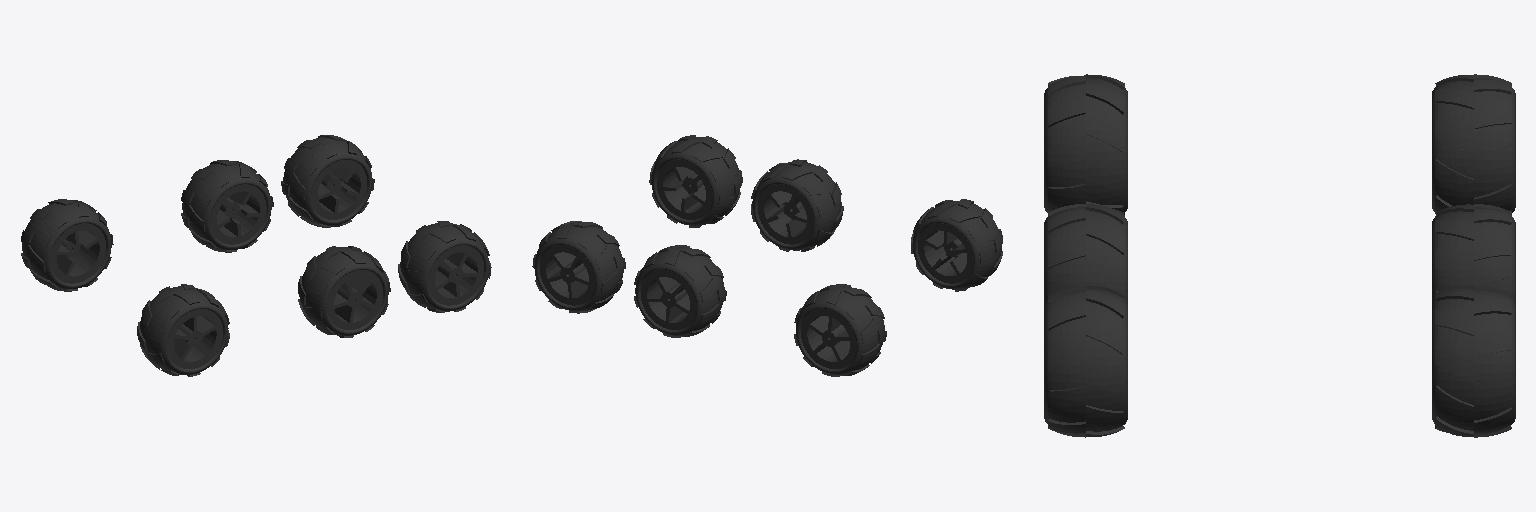
The robot description file, URDF, robot "roverfinal":
<robot
  name="roverfinal">
  <link
    name="rov">
    <inertial>
      <origin
        xyz="0.0190625882374699 -4.65248248815442E-08 0.33851665227412"
        rpy="0 0 0" />
      <mass
        value="4.39169267022831" />
      <inertia
        ixx="0.199357385800559"
        ixy="-3.61509941138825E-05"
        ixz="0.00940668484747101"
        iyy="0.208149492549454"
        iyz="-1.43928486263471E-07"
        izz="0.306772643862929" />
    </inertial>
    <visual>
      <origin
        xyz="0 0 0"
        rpy="0 0 0" />
      <geometry>
        <mesh
          filename="package://roverfinal/meshes/rov.STL" />
      </geometry>
      <material
        name="">
        <color
          rgba="0.843137254901961 0.815686274509804 0.752941176470588 1" />
      </material>
    </visual>
    <collision>
      <origin
        xyz="0 0 0"
        rpy="0 0 0" />
      <geometry>
        <mesh
          filename="package://roverfinal/meshes/rov.STL" />
      </geometry>
    </collision>
  </link>
  <link
    name="rueda1">
    <inertial>
      <origin
        xyz="7.60403832356094E-06 6.6267419967965E-06 0.000621660262235091"
        rpy="0 0 0" />
      <mass
        value="3.68717840133968" />
      <inertia
        ixx="0.0186305070816369"
        ixy="-9.47267250335423E-08"
        ixz="9.82909026594848E-06"
        iyy="0.0186303359627206"
        iyz="8.11533994536173E-06"
        izz="0.0288597043890941" />
    </inertial>
    <visual>
      <origin
        xyz="0 0 0"
        rpy="0 0 0" />
      <geometry>
        <mesh
          filename="package://roverfinal/meshes/rueda1.STL" />
      </geometry>
      <material
        name="">
        <color
          rgba="0.250980392156863 0.250980392156863 0.250980392156863 1" />
      </material>
    </visual>
    <collision>
      <origin
        xyz="0 0 0"
        rpy="0 0 0" />
      <geometry>
        <mesh
          filename="package://roverfinal/meshes/rueda1.STL" />
      </geometry>
    </collision>
  </link>
  <joint
    name="rueda_1"
    type="revolute">
    <origin
      xyz="0.39573 -0.30621 0.12581"
      rpy="1.5708 0 0" />
    <parent
      link="rov" />
    <child
      link="rueda1" />
    <axis
      xyz="0 0 1" />
    <limit
      lower="-15"
      upper="15"
      effort="1000"
      velocity="0.5" />
  </joint>
  <link
    name="rueda2">
    <inertial>
      <origin
        xyz="2.1295E-06 -9.7362E-06 -0.00062151"
        rpy="0 0 0" />
      <mass
        value="3.6872" />
      <inertia
        ixx="0.018631"
        ixy="-8.0891E-08"
        ixz="-2.7061E-06"
        iyy="0.01863"
        iyz="1.2466E-05"
        izz="0.02886" />
    </inertial>
    <visual>
      <origin
        xyz="0 0 0"
        rpy="0 0 0" />
      <geometry>
        <mesh
          filename="package://roverfinal/meshes/rueda2.STL" />
      </geometry>
      <material
        name="">
        <color
          rgba="0.25098 0.25098 0.25098 1" />
      </material>
    </visual>
    <collision>
      <origin
        xyz="0 0 0"
        rpy="0 0 0" />
      <geometry>
        <mesh
          filename="package://roverfinal/meshes/rueda2.STL" />
      </geometry>
    </collision>
  </link>
  <joint
    name="rueda_2"
    type="revolute">
    <origin
      xyz="0.39573 0.30621 0.12581"
      rpy="1.5708 0 0" />
    <parent
      link="rov" />
    <child
      link="rueda2" />
    <axis
      xyz="0 0 1" />
    <limit
      lower="-15"
      upper="15"
      effort="1000"
      velocity="0.5" />
  </joint>
  <link
    name="rueda3">
    <inertial>
      <origin
        xyz="9.2261E-06 1.3068E-06 0.00062028"
        rpy="0 0 0" />
      <mass
        value="3.6873" />
      <inertia
        ixx="0.018631"
        ixy="-1.3252E-07"
        ixz="1.1952E-05"
        iyy="0.018631"
        iyz="4.1426E-06"
        izz="0.02886" />
    </inertial>
    <visual>
      <origin
        xyz="0 0 0"
        rpy="0 0 0" />
      <geometry>
        <mesh
          filename="package://roverfinal/meshes/rueda3.STL" />
      </geometry>
      <material
        name="">
        <color
          rgba="0.25098 0.25098 0.25098 1" />
      </material>
    </visual>
    <collision>
      <origin
        xyz="0 0 0"
        rpy="0 0 0" />
      <geometry>
        <mesh
          filename="package://roverfinal/meshes/rueda3.STL" />
      </geometry>
    </collision>
  </link>
  <joint
    name="rueda_3"
    type="revolute">
    <origin
      xyz="0.090614 -0.30621 0.12581"
      rpy="1.5708 0 0" />
    <parent
      link="rov" />
    <child
      link="rueda3" />
   <axis
      xyz="0 0 1" />
    <limit
      lower="-15"
      upper="15"
      effort="1000"
      velocity="0.5" />
  </joint>
  <link
    name="rueda4">
    <inertial>
      <origin
        xyz="3.8713E-06 -9.0806E-06 -0.00062179"
        rpy="0 0 0" />
      <mass
        value="3.6872" />
      <inertia
        ixx="0.018631"
        ixy="1.4389E-08"
        ixz="-5.2116E-06"
        iyy="0.01863"
        iyz="1.1701E-05"
        izz="0.02886" />
    </inertial>
    <visual>
      <origin
        xyz="0 0 0"
        rpy="0 0 0" />
      <geometry>
        <mesh
          filename="package://roverfinal/meshes/rueda4.STL" />
      </geometry>
      <material
        name="">
        <color
          rgba="0.25098 0.25098 0.25098 1" />
      </material>
    </visual>
    <collision>
      <origin
        xyz="0 0 0"
        rpy="0 0 0" />
      <geometry>
        <mesh
          filename="package://roverfinal/meshes/rueda4.STL" />
      </geometry>
    </collision>
  </link>
  <joint
    name="rueda_4"
    type="revolute">
    <origin
      xyz="0.090612 0.30621 0.12581"
      rpy="1.5708 0 0" />
    <parent
      link="rov" />
    <child
      link="rueda4" />
    <axis
      xyz="0 0 1" />
    <limit
      lower="-15"
      upper="15"
      effort="1000"
      velocity="0.5" />
  </joint>
  <link
    name="rueda5">
    <inertial>
      <origin
        xyz="2.2834E-06 -9.3615E-06 0.00061913"
        rpy="0 0 0" />
      <mass
        value="3.6872" />
      <inertia
        ixx="0.018631"
        ixy="1.4376E-07"
        ixz="2.2094E-06"
        iyy="0.018631"
        iyz="-1.2381E-05"
        izz="0.02886" />
    </inertial>
    <visual>
      <origin
        xyz="0 0 0"
        rpy="0 0 0" />
      <geometry>
        <mesh
          filename="package://roverfinal/meshes/rueda5.STL" />
      </geometry>
      <material
        name="">
        <color
          rgba="0.25098 0.25098 0.25098 1" />
      </material>
    </visual>
    <collision>
      <origin
        xyz="0 0 0"
        rpy="0 0 0" />
      <geometry>
        <mesh
          filename="package://roverfinal/meshes/rueda5.STL" />
      </geometry>
    </collision>
  </link>
  <joint
    name="rueda_5"
    type="revolute">
    <origin
      xyz="-0.39373 -0.30621 0.12581"
      rpy="1.5708 0 0" />
    <parent
      link="rov" />
    <child
      link="rueda5" />
    <axis
      xyz="0 0 1" />
    <limit
      lower="-15"
      upper="15"
      effort="1000"
      velocity="0.5" />
  </joint>
  <link
    name="rueda6">
    <inertial>
      <origin
        xyz="-9.8771E-06 -1.2449E-06 -0.00062163"
        rpy="0 0 0" />
      <mass
        value="3.6872" />
      <inertia
        ixx="0.01863"
        ixy="1.0031E-07"
        ixz="1.2633E-05"
        iyy="0.018631"
        iyz="1.7985E-06"
        izz="0.02886" />
    </inertial>
    <visual>
      <origin
        xyz="0 0 0"
        rpy="0 0 0" />
      <geometry>
        <mesh
          filename="package://roverfinal/meshes/rueda6.STL" />
      </geometry>
      <material
        name="">
        <color
          rgba="0.25098 0.25098 0.25098 1" />
      </material>
    </visual>
    <collision>
      <origin
        xyz="0 0 0"
        rpy="0 0 0" />
      <geometry>
        <mesh
          filename="package://roverfinal/meshes/rueda6.STL" />
      </geometry>
    </collision>
  </link>
  <joint
    name="rueda_6"
    type="revolute">
    <origin
      xyz="-0.39373 0.30621 0.12581"
      rpy="1.5708 0 0" />
    <parent
      link="rov" />
    <child
      link="rueda6" />
    <axis
      xyz="0 0 1" />
    <limit
      lower="-15"
      upper="15"
      effort="1000"
      velocity="0.5" />
  </joint>
</robot>

--- What the picture shows (computed from the rendered views, not written in the file) ---
The picture shows the robot from 3 angles, left to right: view 1: azimuth 30°, elevation 25°; view 2: azimuth 150°, elevation 25°; view 3: azimuth 270°, elevation 25°; orthographic projection.
Robot: roverfinal — 7 links, 6 joints (6 revolute); root link rov; default pose: all joints at 0.
Visible links, largest first — view 1: rueda2, rueda6, rueda5, rueda1, rueda4, rueda3; view 2: rueda1, rueda6, rueda4, rueda3, rueda2, rueda5; view 3: rueda1, rueda2, rueda6, rueda5, rueda4, rueda3.
Link boxes in pixels (<box>): rueda2: <box>281,135,374,227</box>; rueda6: <box>21,199,113,291</box>; rueda5: <box>137,284,229,376</box>; rueda1: <box>398,221,491,312</box>; rueda4: <box>181,160,273,252</box>; rueda3: <box>298,246,390,337</box>; rueda1: <box>649,135,742,227</box>; rueda6: <box>794,284,886,376</box>; rueda4: <box>634,245,726,337</box>; rueda3: <box>751,159,843,251</box>; rueda2: <box>532,221,625,313</box>; rueda5: <box>911,199,1002,291</box>; rueda1: <box>1044,286,1127,437</box>; rueda2: <box>1432,286,1515,437</box>; rueda6: <box>1432,74,1515,216</box>; rueda5: <box>1044,74,1127,215</box>; rueda4: <box>1432,204,1515,303</box>; rueda3: <box>1044,204,1127,303</box>.
Size in the robot's own frame: 1.03 by 0.744 by 0.24 metres.
6 mesh visuals loaded from 7 distinct referenced files (6 binary STL); not drawn: 1 (reference not matched to a file when rendering).